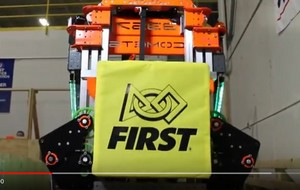cube: (96, 61, 214, 177)
